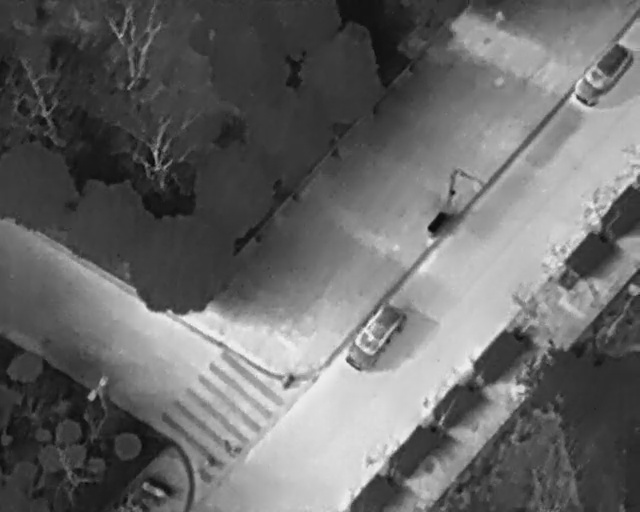Car: (338, 296, 412, 379), (568, 37, 638, 112)
